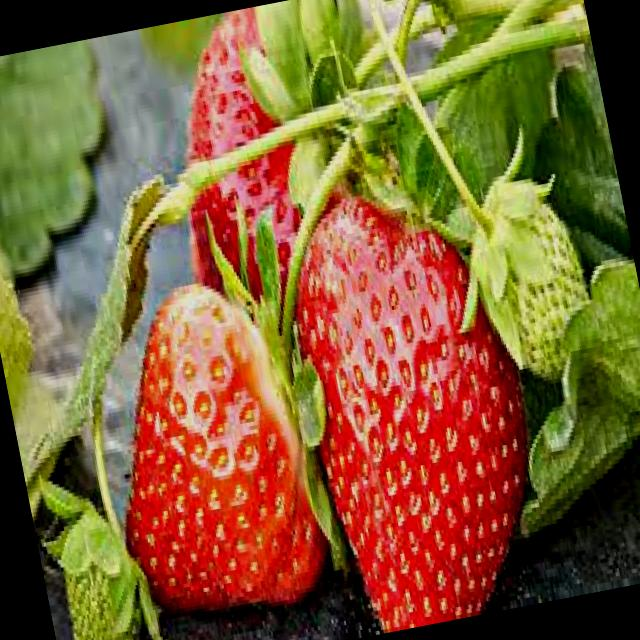strawberry: (268, 156, 562, 638), (67, 264, 356, 637)
